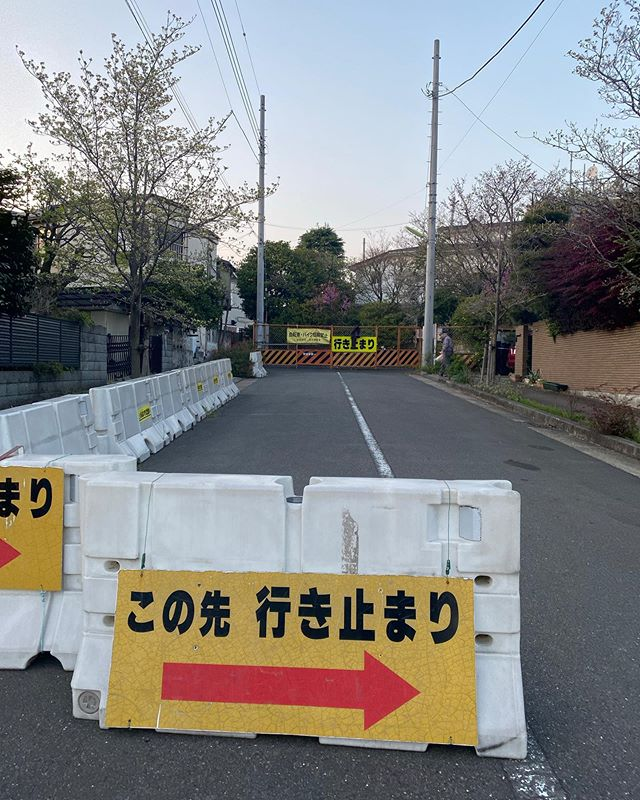sign: (122, 575, 470, 730)
sky: (234, 1, 549, 228)
street: (162, 354, 640, 800)
tree: (1, 32, 270, 375)
